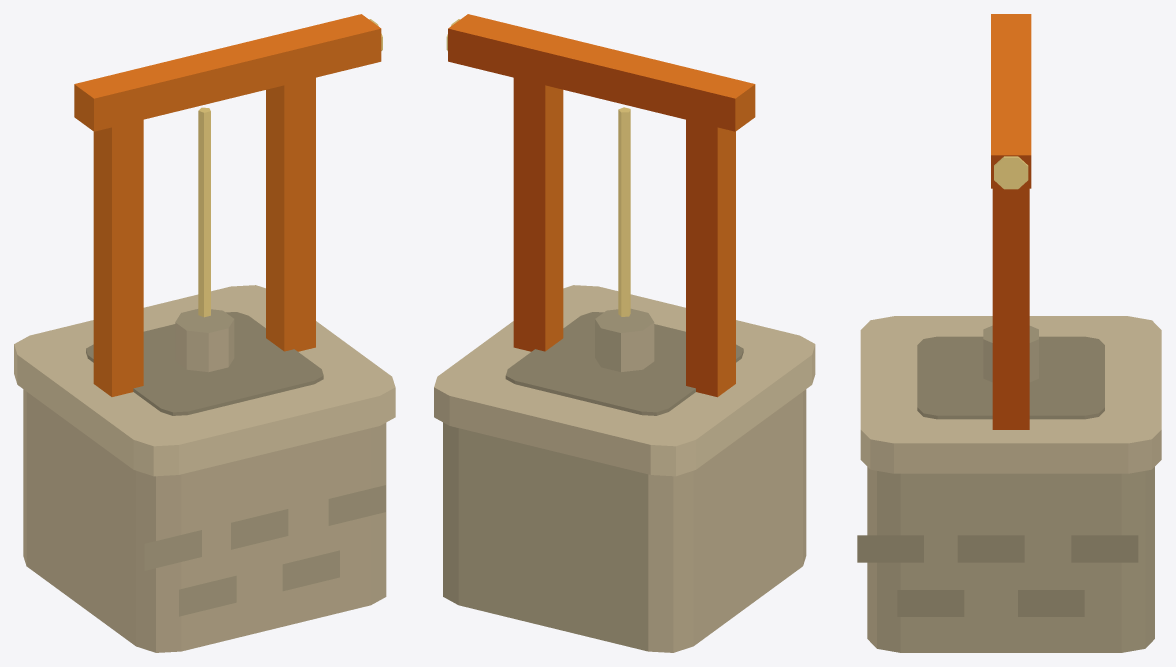
File: well.glb
The picture shows the model from 3 angles, left to right: view 1: azimuth 30°, elevation 25°; view 2: azimuth 150°, elevation 25°; view 3: azimuth 270°, elevation 25°; orthographic projection.
Bounding box in the file's own units: 1.05 × 1.71 × 0.91.
